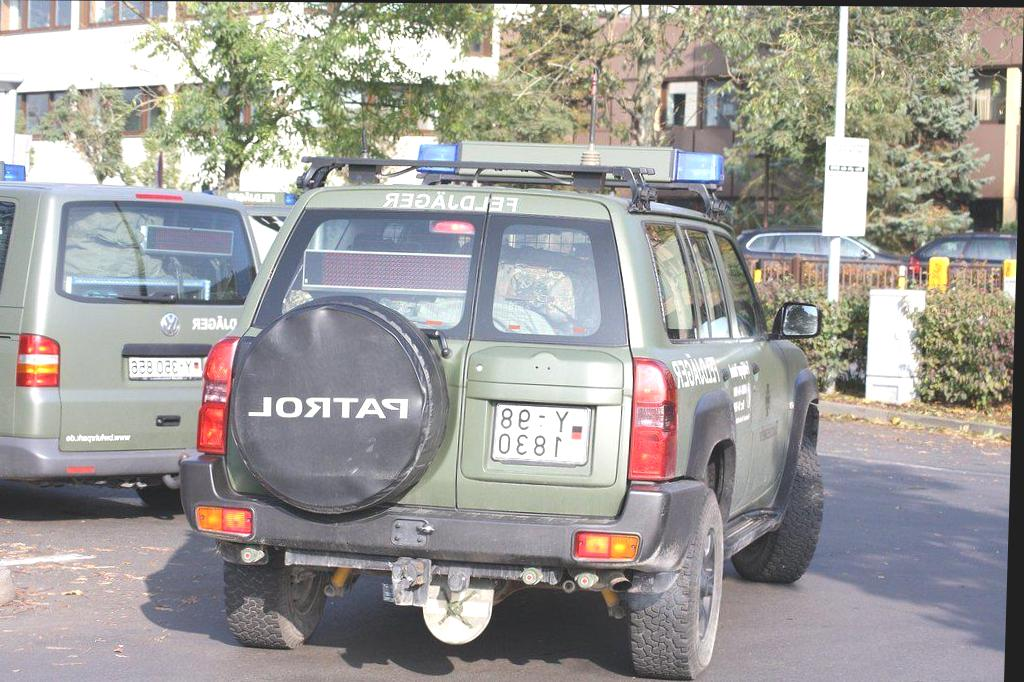License_Plate: (488, 405, 596, 467), (127, 357, 205, 381)
